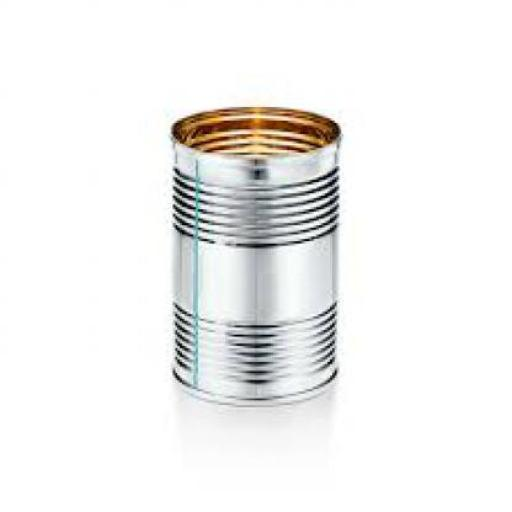metal: (171, 104, 339, 402)
